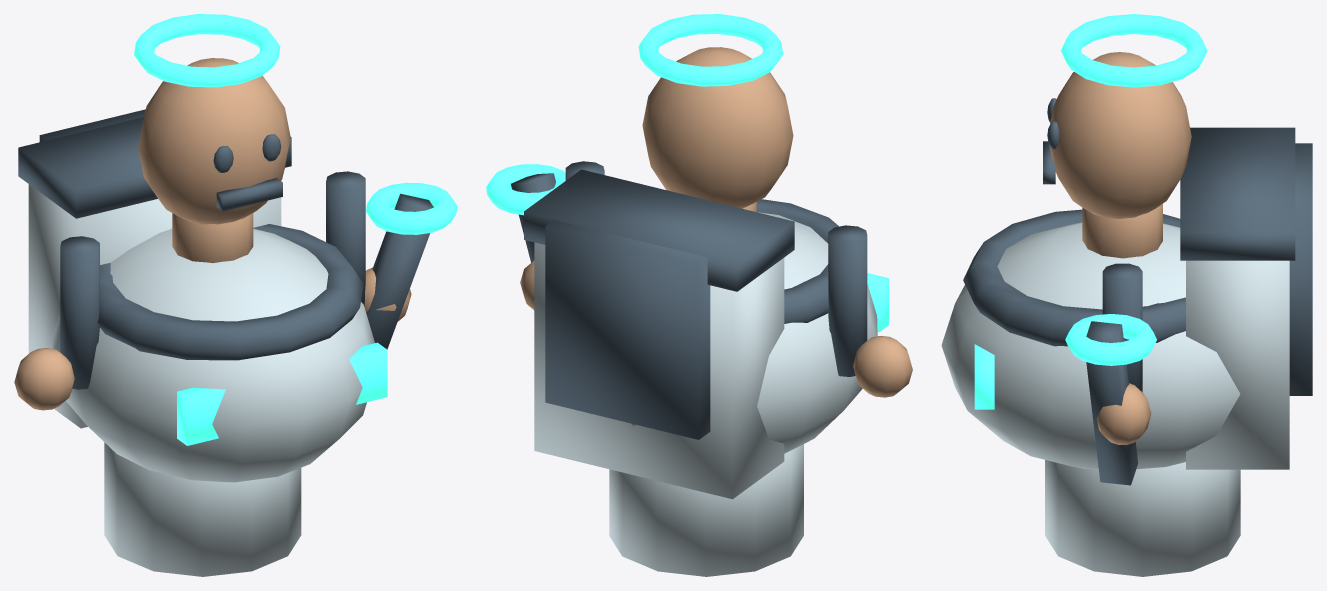
Rendered from porcelain-raider-repair-v001.glb.
3 views of the same model, side by side, from view 1: azimuth 30°, elevation 25°; view 2: azimuth 150°, elevation 25°; view 3: azimuth 270°, elevation 25° (orthographic).
Visible parts, largest first — view 1: bowl, pedestal, head, rim, tank, tank-lid, repair-halo, arm-left, wrench-handle, energy-band, arm-right, wrench-head (+5 smaller); view 2: tool-pack, tank, pedestal, head, tank-lid, bowl, repair-halo, arm-left, rim, hand-left, wrench-head, energy-band (+1 smaller); view 3: bowl, pedestal, tank, head, tank-lid, rim, repair-halo, tool-pack, wrench-handle, neck, wrench-head, arm-right (+2 smaller).
Boxes of the visible parts, x1,y1,x2,y2 form: bowl: [53, 228, 374, 482]; pedestal: [104, 442, 301, 576]; head: [138, 58, 290, 224]; rim: [97, 224, 363, 360]; tank: [28, 184, 281, 428]; tank-lid: [18, 117, 291, 218]; repair-halo: [134, 14, 280, 87]; arm-left: [60, 236, 99, 389]; wrench-handle: [366, 193, 433, 349]; energy-band: [177, 342, 387, 445]; arm-right: [326, 171, 365, 306]; wrench-head: [366, 182, 457, 234]; tool-pack: [545, 220, 710, 439]; tank: [534, 242, 784, 499]; pedestal: [609, 444, 803, 576]; head: [642, 47, 793, 208]; tank-lid: [524, 169, 794, 291]; bowl: [631, 212, 877, 453]; repair-halo: [638, 14, 782, 86]; arm-left: [828, 225, 867, 376]; rim: [756, 199, 838, 323]; hand-left: [853, 336, 912, 397]; wrench-head: [486, 164, 565, 215]; energy-band: [867, 273, 889, 332]; bowl: [941, 222, 1240, 469]; pedestal: [1045, 460, 1240, 576]; tank: [1186, 260, 1289, 469]; head: [1049, 52, 1191, 218]; tank-lid: [1180, 127, 1295, 260]; rim: [963, 209, 1185, 346]; repair-halo: [1061, 14, 1207, 87]; tool-pack: [1289, 143, 1312, 395]; wrench-handle: [1086, 321, 1138, 485]; neck: [1082, 204, 1162, 258]; wrench-head: [1065, 314, 1156, 365]; arm-right: [1102, 263, 1142, 391].
Size of the model in its own units: 1.7 by 1.89 by 1.29.
